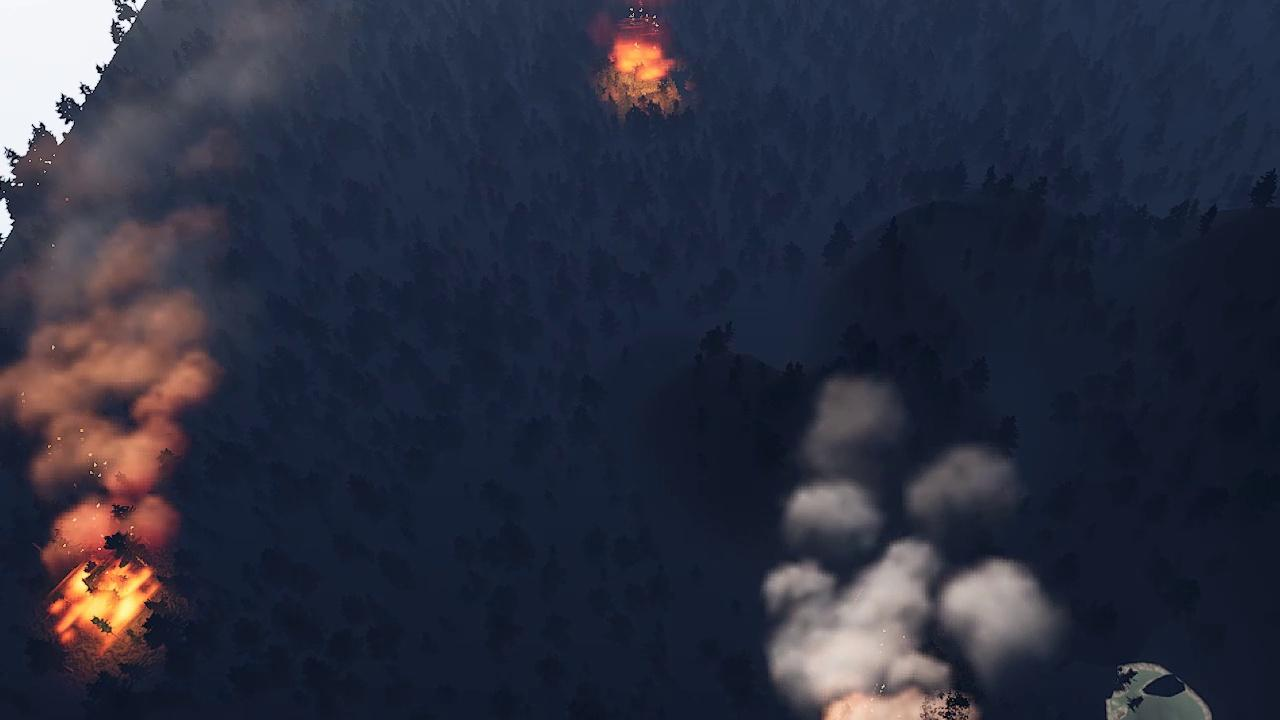fire: (47, 562, 158, 645), (610, 32, 673, 90)
smoke: (0, 0, 282, 562), (758, 374, 1060, 720)
